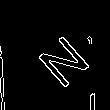N_SE: (30, 29, 95, 94)
